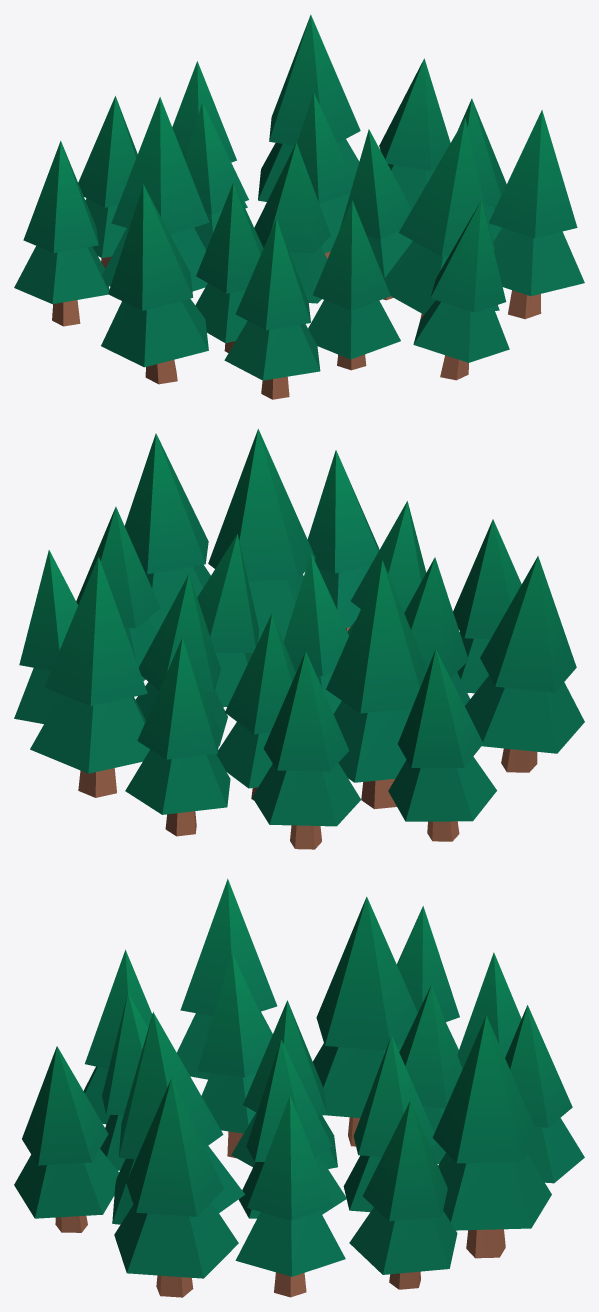
The model's file is hex_trees_a_large.glb.
3 renders of one model, top to bottom at view 1: azimuth 30°, elevation 25°; view 2: azimuth 150°, elevation 25°; view 3: azimuth 270°, elevation 25°, orthographic. The views are drawn at different scales.
Visible parts, largest first — view 1: hex_trees_a_large; view 2: hex_trees_a_large; view 3: hex_trees_a_large.
Part boxes in pixels (x1,y1,x2,y2): hex_trees_a_large: [14, 14, 584, 399]; hex_trees_a_large: [14, 429, 584, 849]; hex_trees_a_large: [14, 878, 584, 1297].
Bounding box in the file's own units: 0.9726 × 0.4632 × 0.9833.
Materials: 1 (1 with a texture image).
